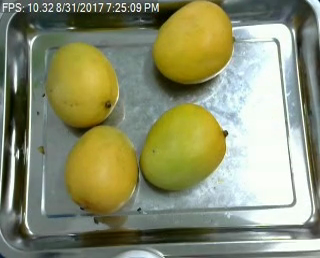Mango: (138, 104, 228, 188), (42, 44, 121, 129), (154, 0, 233, 84), (63, 125, 138, 211)
